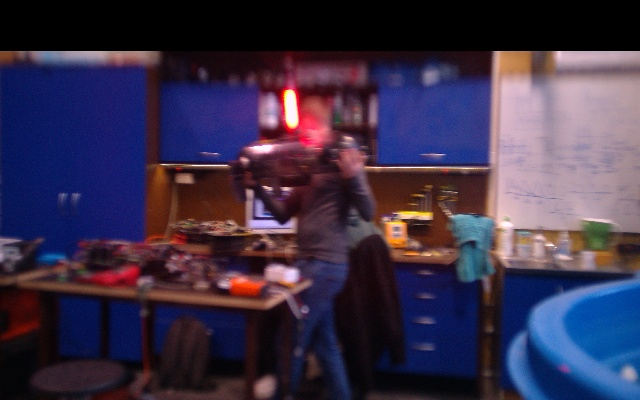red: (283, 87, 299, 129)
